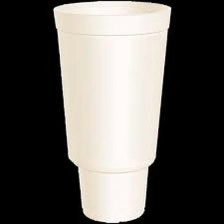paper_cup: (45, 0, 176, 224)
